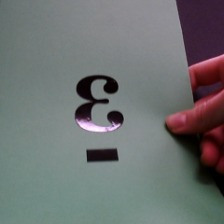green3: (63, 67, 131, 167)
